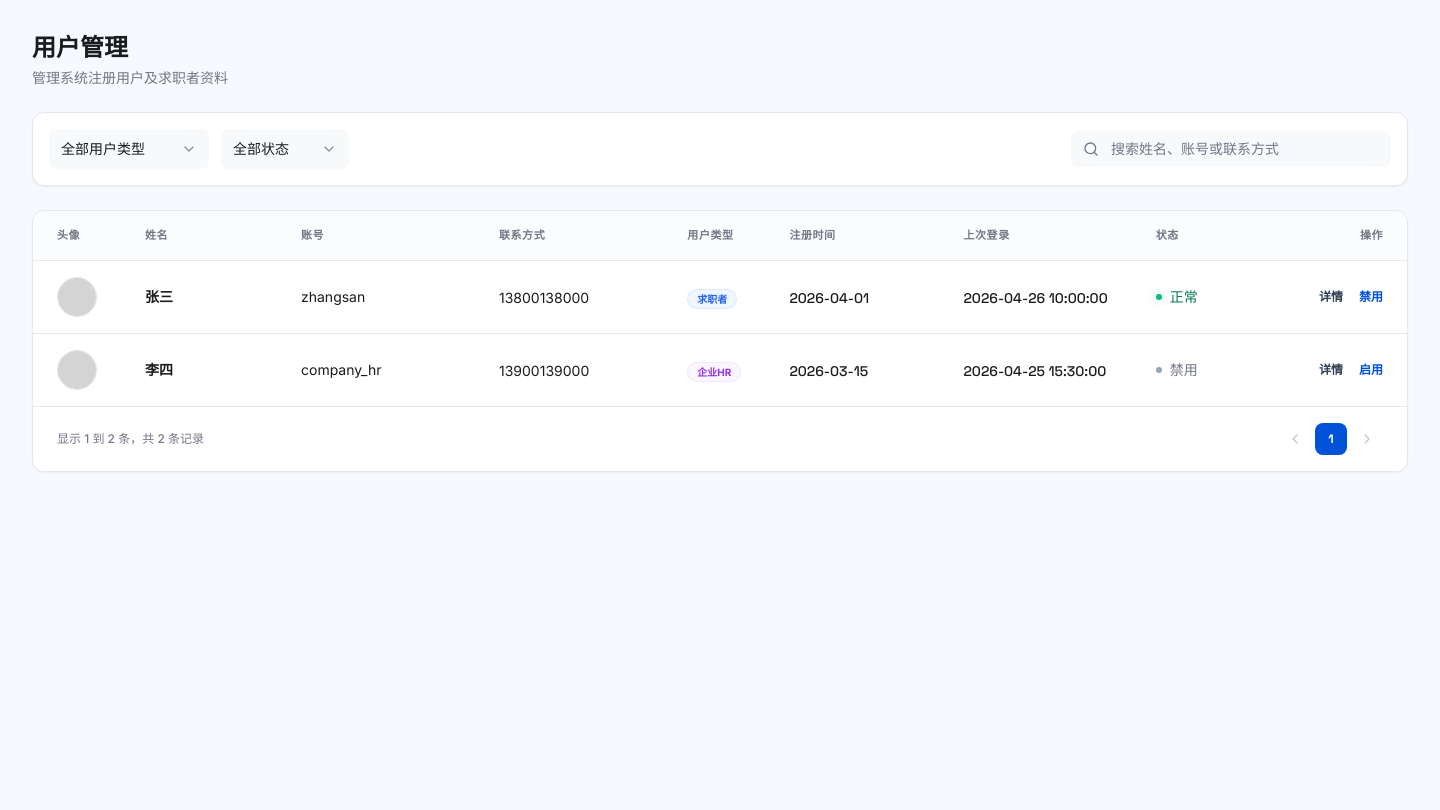
AdminUsersPage › 点击详情按钮打开用户详情弹窗
Expected: the text "张三" is shown, [145, 288, 173, 304]
Click the button "详情" in the row of "张三": {"x": 1331, "y": 296} [1319, 288, 1343, 304]
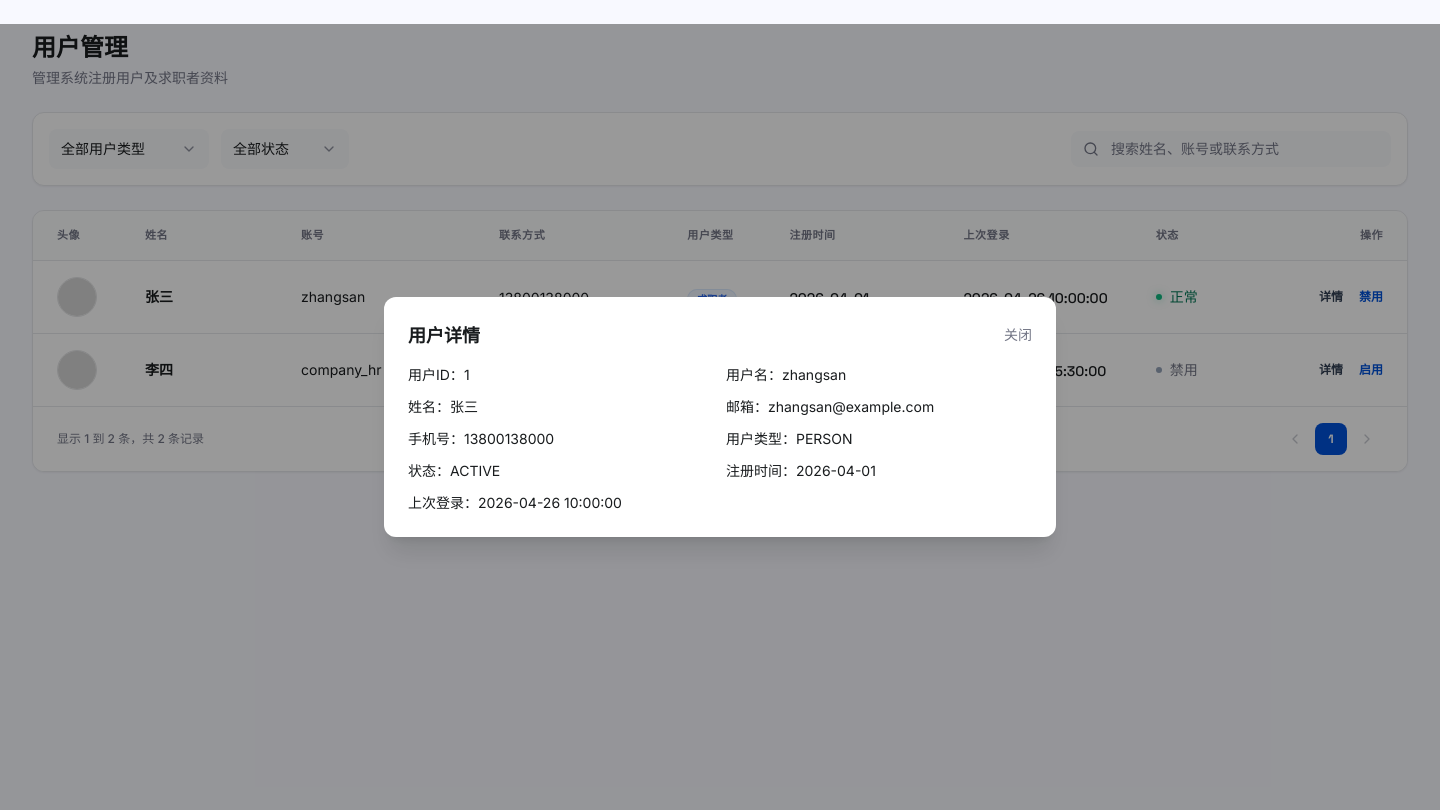
Expected: the heading "用户详情" is shown, [408, 321, 480, 349]
